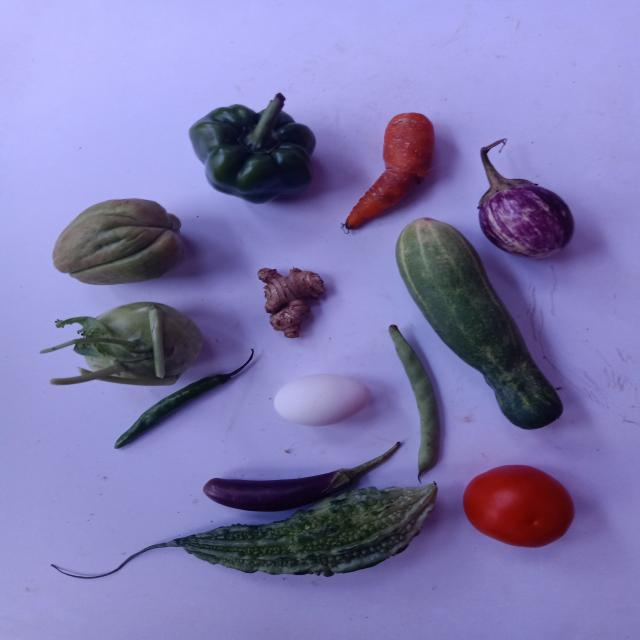Beans: (389, 325, 440, 481)
Bitter Gourd: (170, 485, 437, 577)
Brinjal: (203, 443, 401, 512)
Capsicum: (188, 93, 315, 202)
Carrot: (346, 112, 434, 228)
Chayote: (51, 198, 182, 285)
Cucumber: (396, 218, 563, 430)
Egg: (273, 374, 371, 426)
Eggplant: (478, 140, 574, 258)
Ginger: (257, 268, 323, 338)
Green Chilly: (113, 350, 252, 449)
Tomato: (464, 466, 575, 548)
Turnip: (40, 302, 202, 386)
